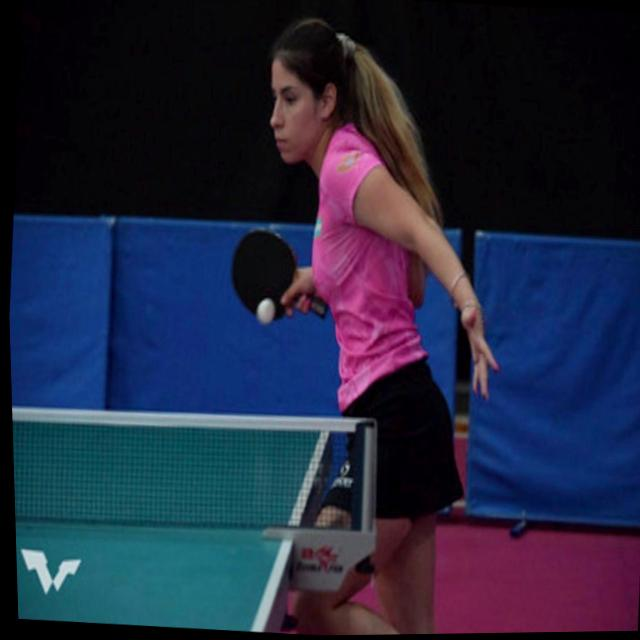TT Net: (12, 404, 386, 551)
TT Racket: (225, 220, 302, 329)
TT Table: (12, 406, 329, 631)
